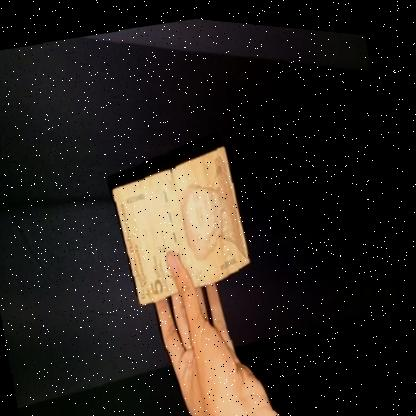five-front-vef: (101, 131, 267, 313)
